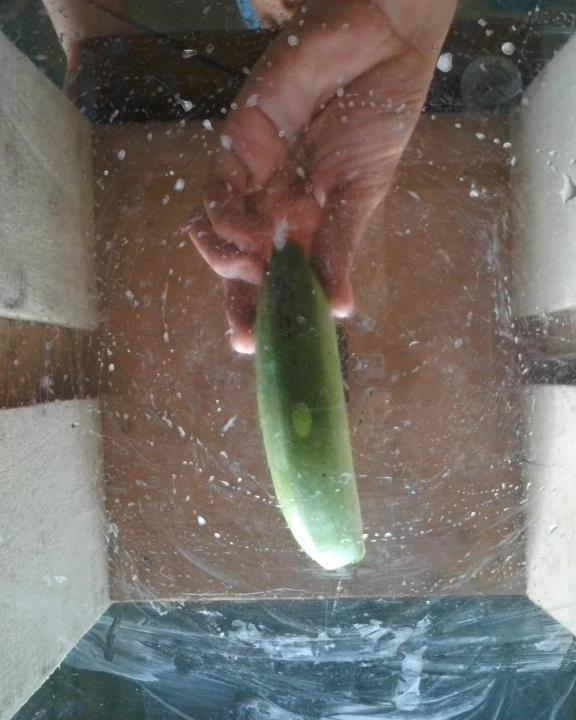CLASS B: (242, 233, 377, 577)
Class A: (268, 253, 311, 348)
